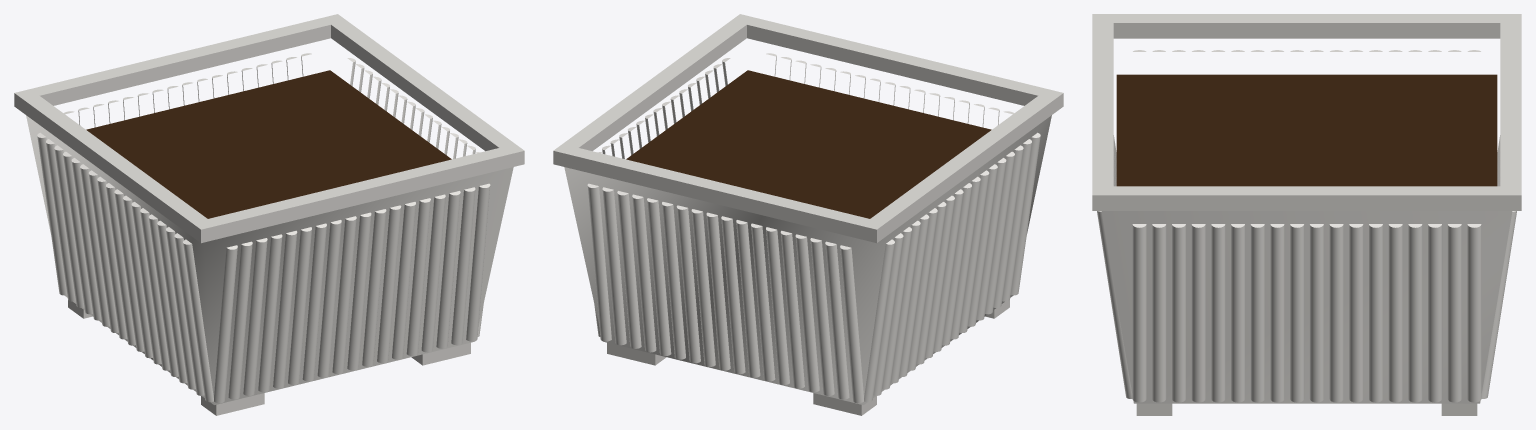
The picture shows the model from 3 angles, left to right: view 1: azimuth 30°, elevation 25°; view 2: azimuth 150°, elevation 25°; view 3: azimuth 270°, elevation 25°; orthographic projection. The views are drawn at different scales.
Visible parts, largest first — view 1: soil, shell, rim-top-f, rim-top-b, rim-top-l, rim-top-r, rim-f, rim-b, flute-0-3, flute-0-8, flute-0-13, flute-0-15 (+36 smaller); view 2: soil, shell, rim-top-b, rim-top-f, rim-top-l, rim-top-r, rim-b, rim-f, flute-1-14, flute-1-9, flute-1-2, flute-1-4 (+36 smaller); view 3: soil, shell, rim-top-r, rim-top-l, rim-top-f, rim-top-b, rim-l, rim-r, flute-2-0, flute-2-7, flute-2-10, flute-2-17 (+18 smaller).
Boxes of the visible parts, x1,y1,x2,y2 form: soil: (86,70,451,218); shell: (26,115,513,404); rim-top-f: (192,144,524,235); rim-top-b: (14,14,346,105); rim-top-l: (23,96,207,228); rim-top-r: (331,21,514,149); rim-f: (192,157,524,243); rim-b: (14,31,330,112); flute-0-3: (258,234,282,392); flute-0-8: (332,216,356,374); flute-0-13: (406,198,430,356); flute-0-15: (436,191,460,348); soil: (626,70,991,218); shell: (564,115,1051,404); rim-top-b: (553,144,885,235); rim-top-f: (731,14,1063,105); rim-top-l: (870,96,1054,228); rim-top-r: (563,21,746,149); rim-b: (553,157,885,243); rim-f: (747,31,1063,112); flute-1-14: (795,234,819,392); flute-1-9: (721,216,745,374); flute-1-2: (617,191,641,348); flute-1-4: (647,198,671,356); soil: (1116,74,1497,186); shell: (1101,211,1512,403); rim-top-r: (1113,186,1500,202); rim-top-l: (1113,14,1500,29); rim-top-f: (1092,14,1113,202); rim-top-b: (1500,14,1521,202); rim-l: (1113,30,1500,38); rim-r: (1113,202,1500,210); flute-2-0: (1132,224,1146,402); flute-2-7: (1270,224,1284,402); flute-2-10: (1329,224,1343,402); flute-2-17: (1467,224,1481,402).
Size of the model in its own units: 0.6 by 0.37 by 0.6.
